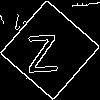Z: (25, 25, 59, 73)
